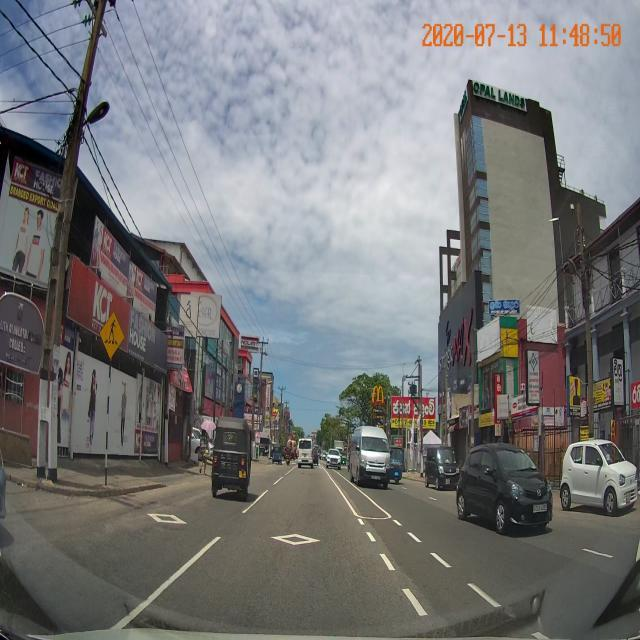diamond: (199, 509, 388, 555)
